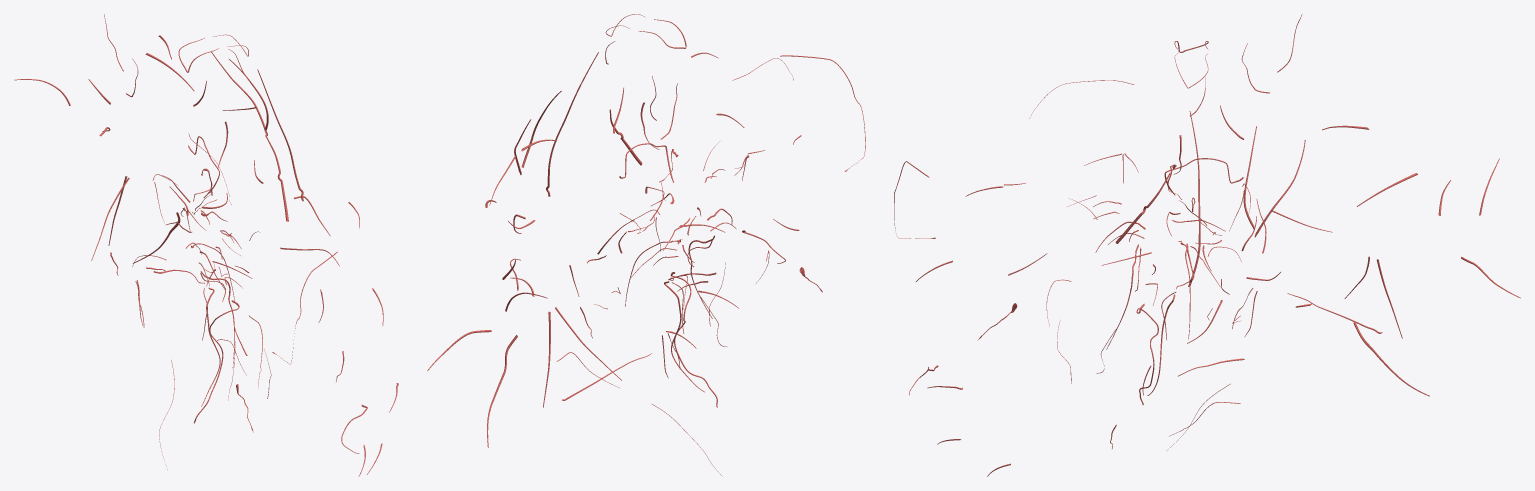
The picture shows the model from 3 angles, left to right: view 1: azimuth 30°, elevation 25°; view 2: azimuth 150°, elevation 25°; view 3: azimuth 270°, elevation 25°; orthographic projection. The views are drawn at different scales.
Bounding box in the file's own units: 73.87 × 159 × 207.
